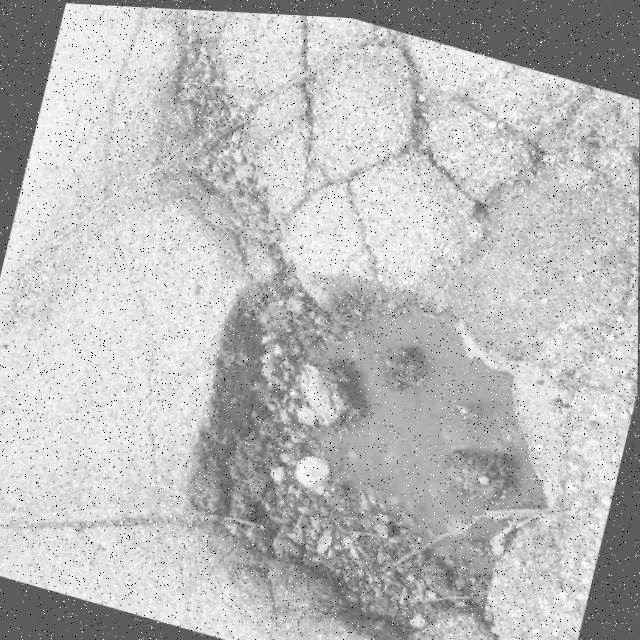pothole: (154, 238, 594, 640)
